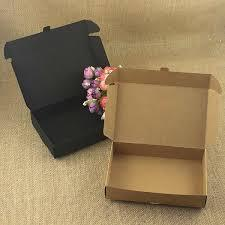box: (103, 68, 221, 209), (5, 19, 113, 158)
